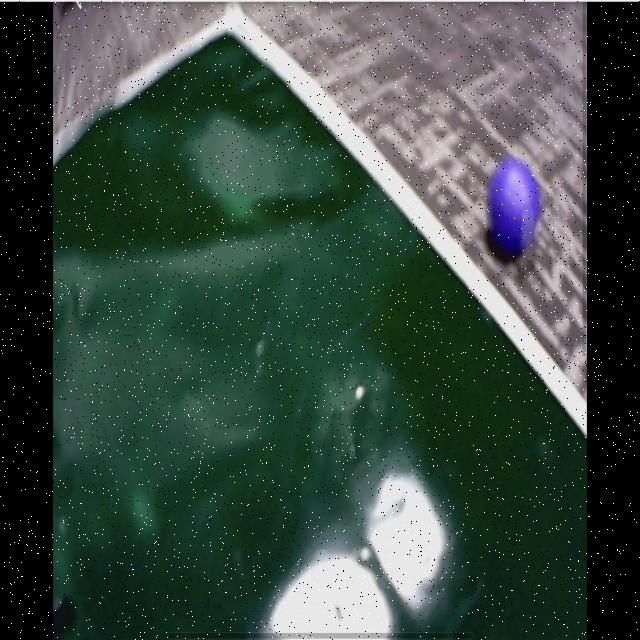ball: (489, 159, 541, 250)
